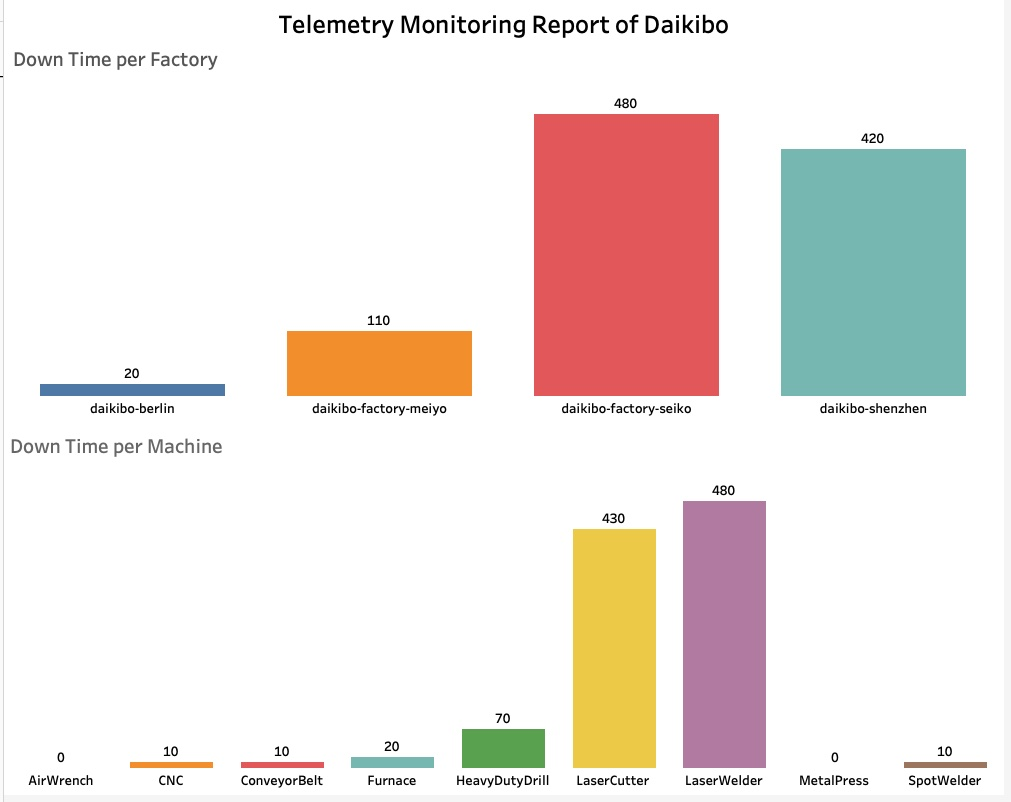

What the dashboard file says about the page in this screenshot:
{"tool":"tableau","page":{"name":"Daikibo","canvas":[1000,800],"ordinal":0},"visuals":[{"type":"title","box":[8,8,984,41]},{"type":"worksheet","title":"Down Time per Factory","mark":"Automatic","rows":["Calculation_1870401257137905664"],"cols":["factory"],"box":[5,46,988,377]},{"type":"worksheet","title":"Down Time per Machine","mark":"Automatic","rows":["Calculation_1870401257137905664"],"cols":["deviceType"],"box":[2,433,995,362]}]}

Visuals, with their boxes in screenshot pixels (x1, y1, x2, y2), scaled from the page's 1000x800 canvas onto the 1011x802 screenshot:
title: <box>8,8,1003,49</box>
"Down Time per Factory" worksheet: <box>5,46,1004,424</box>
"Down Time per Machine" worksheet: <box>2,434,1008,797</box>
